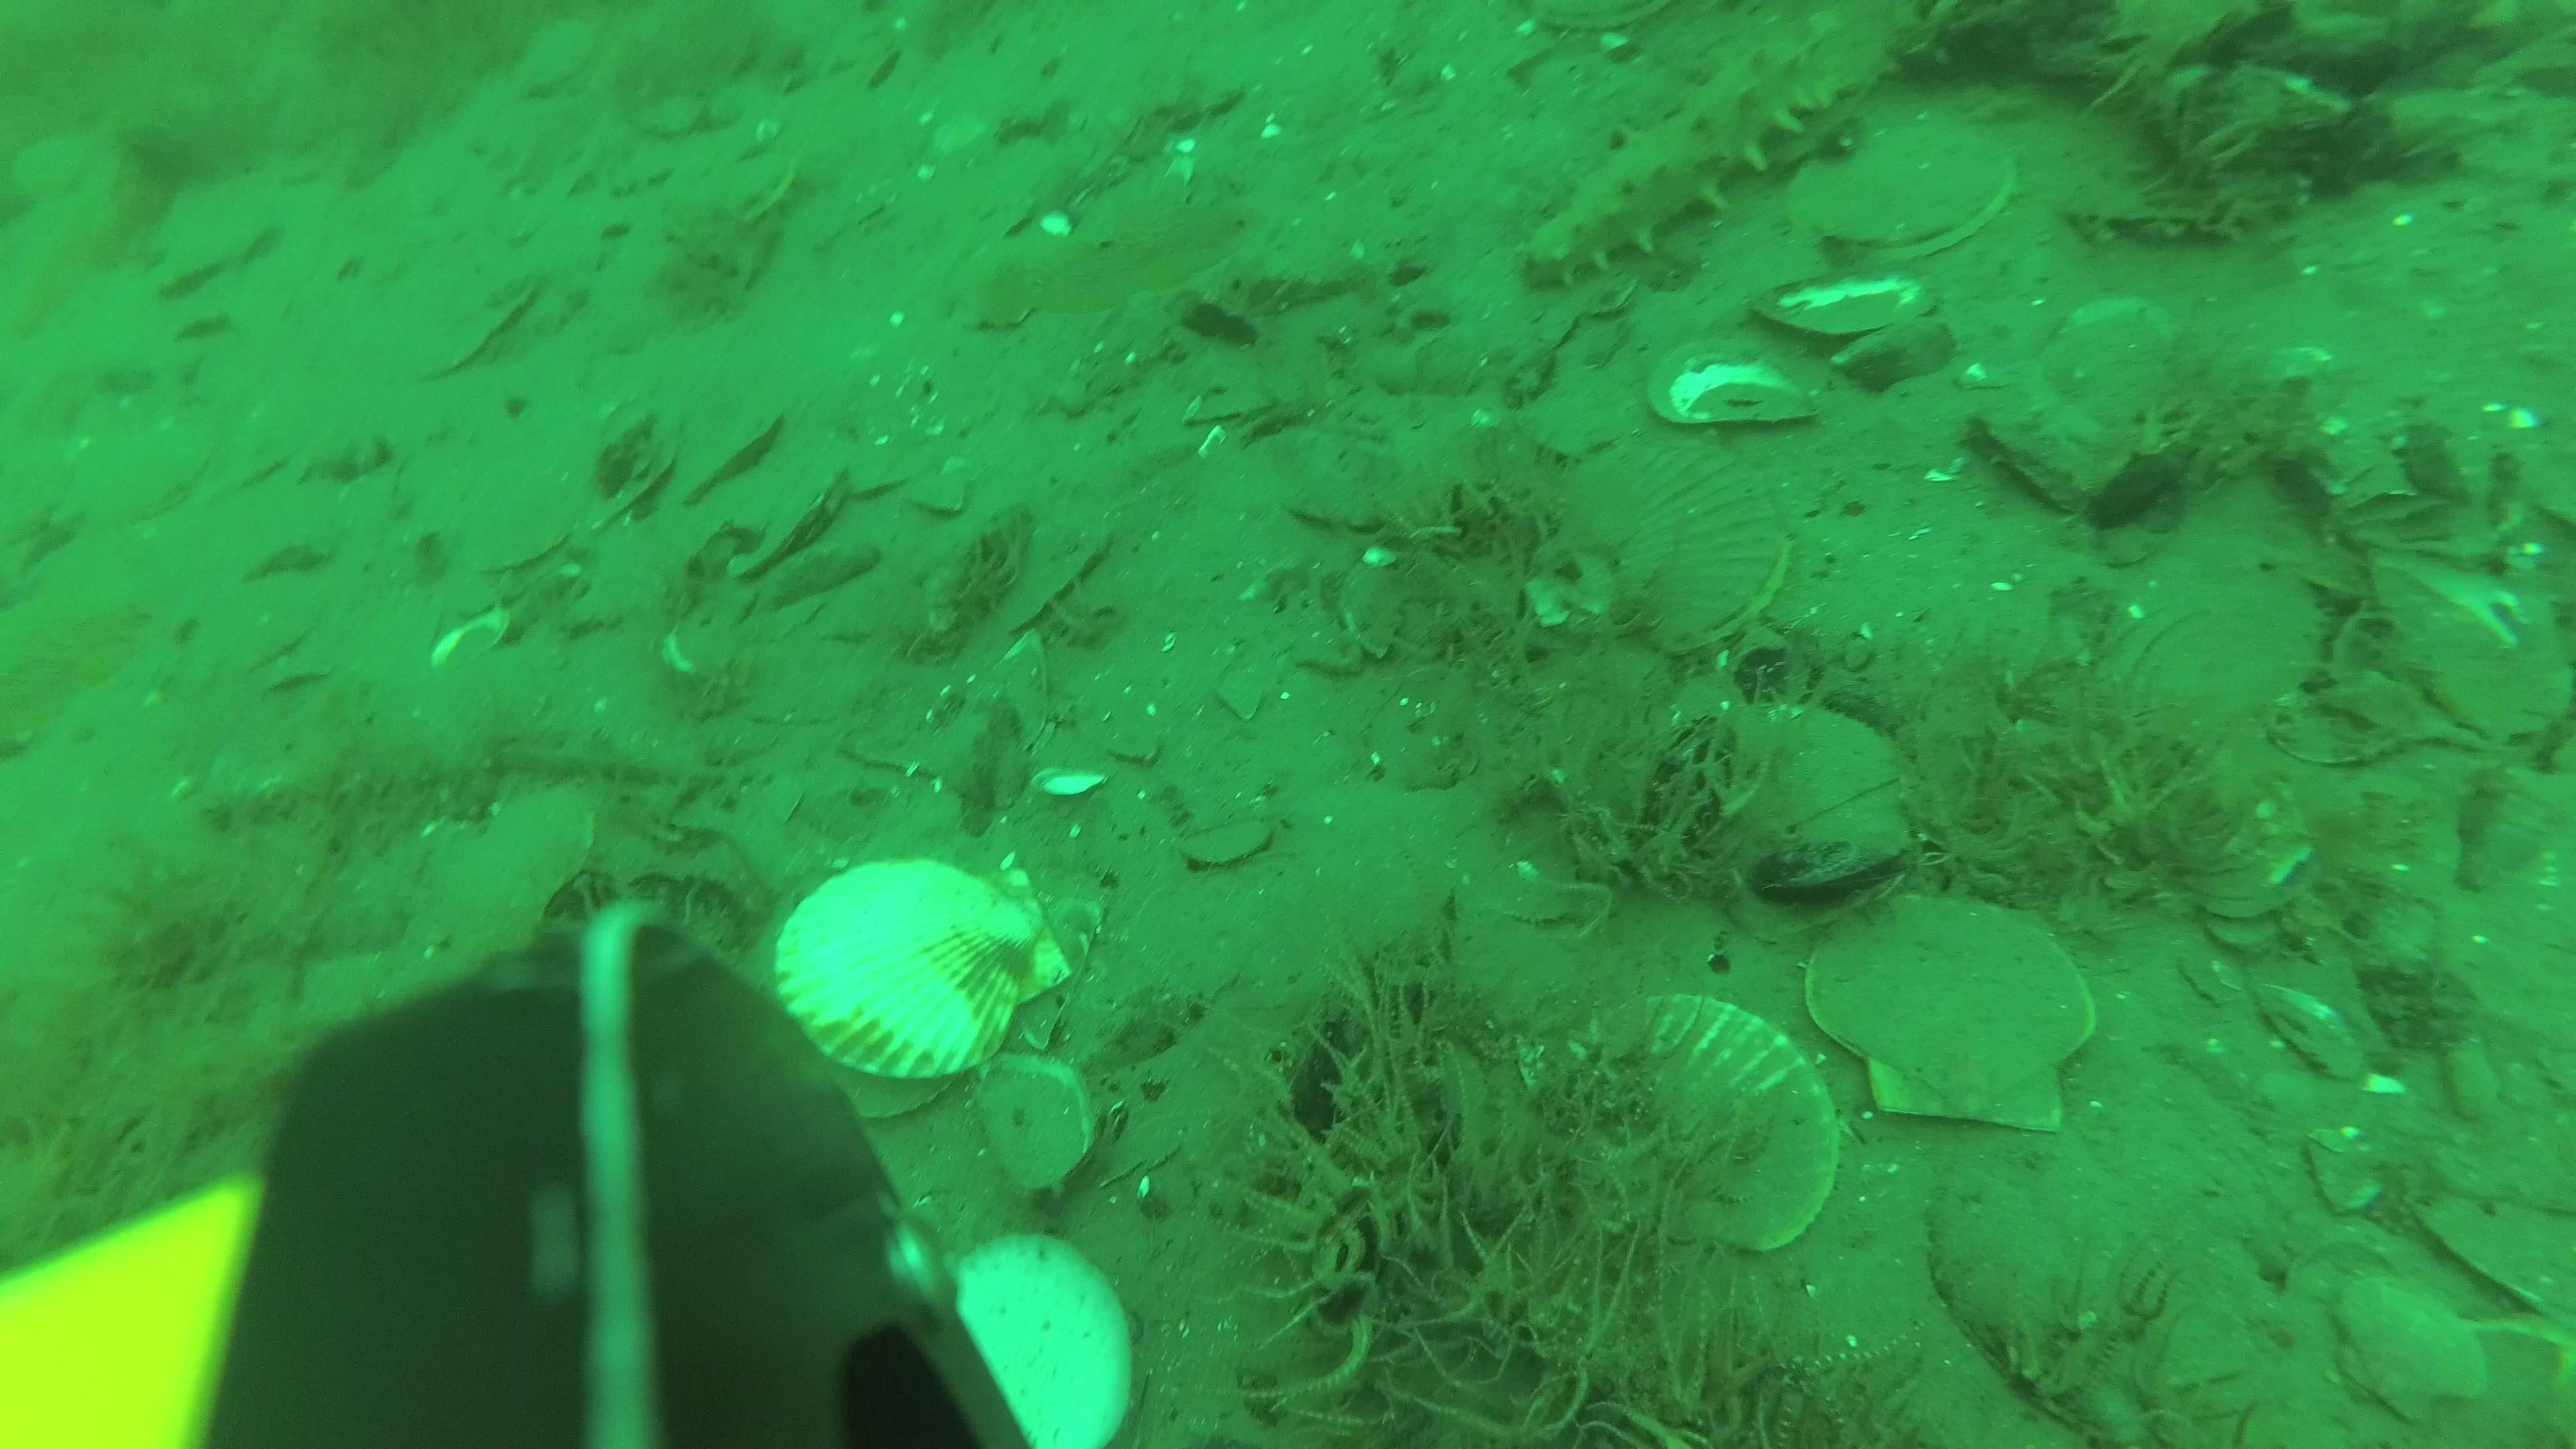holothurian: (1522, 30, 1868, 288)
scallop: (771, 849, 1076, 1113), (1552, 993, 1842, 1258), (1803, 897, 2104, 1136), (1530, 441, 1803, 649), (1654, 708, 1925, 902), (2098, 541, 2312, 750), (947, 1235, 1139, 1449), (1785, 115, 2024, 258), (2335, 1261, 2495, 1419), (73, 405, 218, 525)
